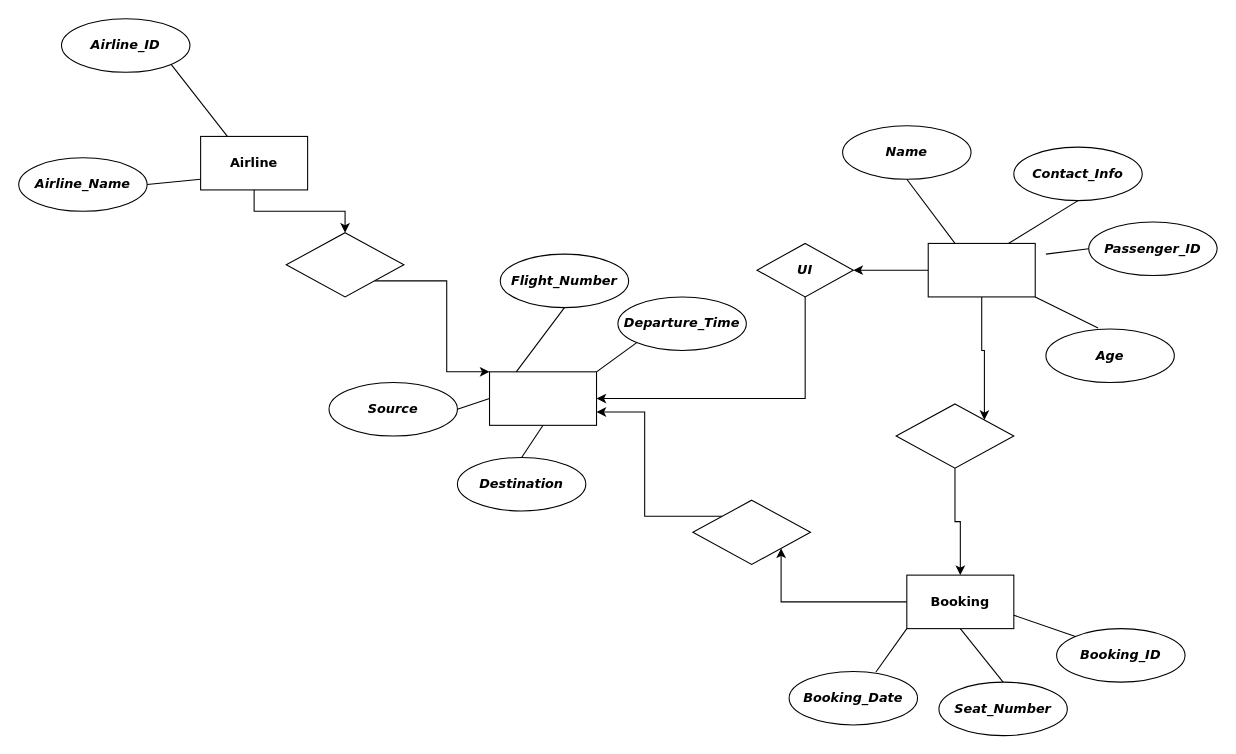
The diagram is 1236 pixels wide and 754 high, and some of its shapes have lost their labels. Each missing label, with the box of its shape:
Books: (895, 403, 1014, 468)
Flight: (488, 371, 597, 425)
Has_Bookin g: (692, 499, 811, 564)
Operates: (285, 232, 404, 297)
Passenger: (927, 242, 1035, 297)
